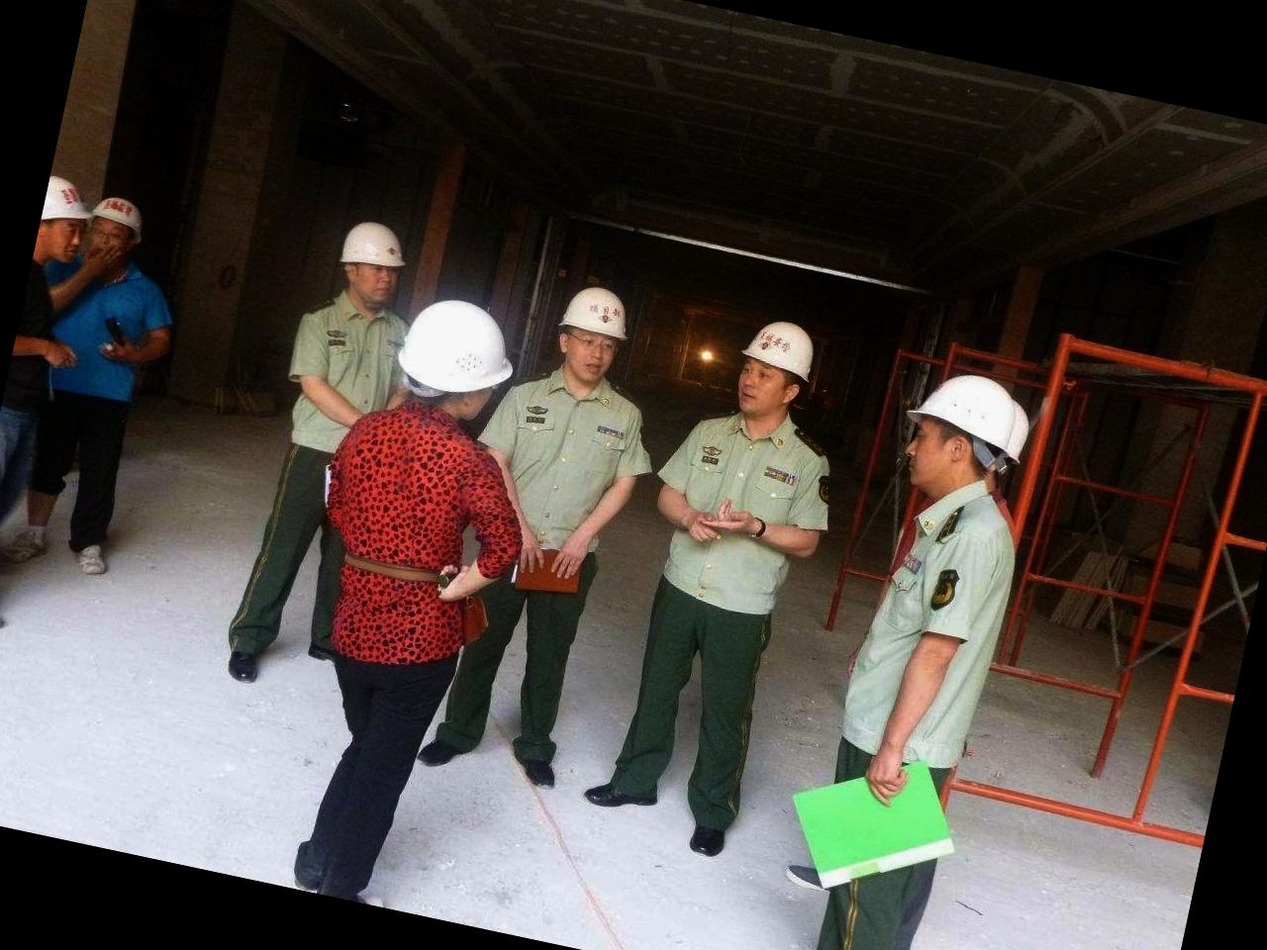helmet: (395, 286, 526, 407), (903, 360, 1049, 465), (729, 305, 836, 384), (332, 213, 412, 282), (554, 287, 645, 344)
no_vest: (303, 386, 512, 664), (840, 475, 1029, 754), (656, 390, 830, 607), (487, 362, 658, 561), (285, 295, 407, 470)
person: (252, 272, 554, 915), (758, 344, 1070, 950), (577, 287, 862, 861), (449, 273, 688, 821), (229, 210, 427, 690)
